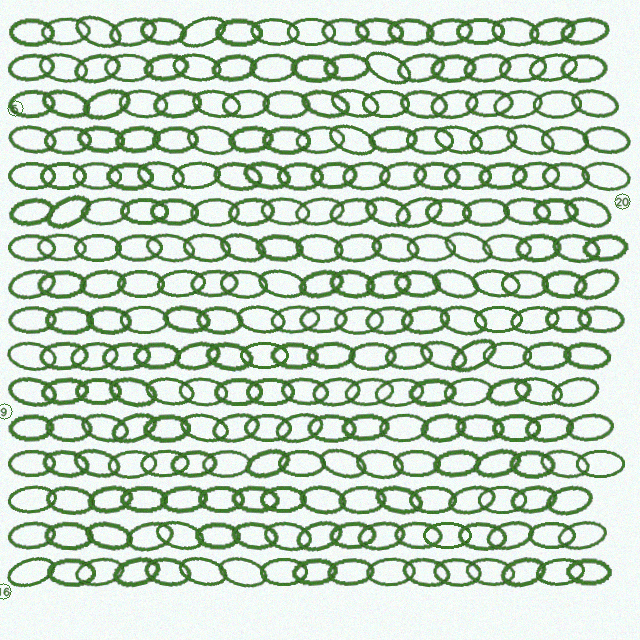chain: (445, 331, 502, 380), (359, 44, 416, 92), (40, 188, 96, 235), (70, 9, 127, 54), (174, 10, 231, 54), (324, 118, 380, 162), (107, 406, 162, 450), (440, 226, 496, 269), (3, 551, 60, 593), (569, 262, 624, 305), (78, 83, 134, 125), (560, 191, 616, 233), (502, 119, 559, 160), (391, 191, 446, 233), (315, 443, 370, 484), (292, 515, 347, 556), (215, 552, 271, 592), (361, 191, 415, 232), (416, 335, 470, 376), (241, 443, 295, 484), (38, 84, 93, 124), (428, 264, 483, 304), (327, 84, 383, 123), (216, 228, 270, 268), (105, 372, 160, 411), (548, 372, 603, 411), (272, 408, 327, 447), (152, 516, 207, 555), (483, 516, 538, 555), (175, 552, 230, 591), (70, 444, 124, 483), (470, 444, 524, 483), (109, 552, 163, 591), (184, 121, 239, 159), (431, 121, 486, 159), (255, 265, 310, 303), (177, 409, 232, 447), (497, 552, 550, 591), (298, 85, 352, 123), (436, 301, 490, 339), (445, 481, 499, 519), (123, 517, 177, 555), (526, 49, 581, 86), (71, 49, 124, 87), (5, 265, 58, 303), (295, 265, 348, 303), (171, 337, 224, 375), (78, 409, 131, 447), (372, 481, 425, 519), (543, 481, 596, 519), (82, 517, 135, 555), (106, 13, 160, 50), (36, 49, 90, 86), (5, 373, 59, 410), (511, 373, 565, 410), (555, 517, 609, 554), (189, 86, 244, 122), (483, 373, 535, 411), (526, 13, 579, 50), (394, 49, 447, 86), (568, 85, 621, 122), (134, 157, 187, 194), (240, 157, 293, 194), (209, 409, 262, 446), (491, 86, 545, 122), (579, 158, 633, 194), (143, 230, 197, 266), (5, 338, 59, 374), (353, 446, 407, 482), (327, 194, 380, 230), (538, 446, 591, 482), (261, 518, 314, 554), (73, 554, 126, 590), (400, 554, 453, 590), (469, 266, 523, 301), (143, 374, 197, 409), (428, 86, 480, 122), (6, 194, 58, 230), (550, 230, 602, 266), (203, 338, 255, 374), (489, 14, 542, 49), (558, 14, 611, 49), (170, 50, 223, 85), (461, 50, 514, 85), (467, 122, 520, 157), (293, 194, 346, 229), (369, 230, 422, 265), (234, 302, 287, 337), (355, 518, 408, 553), (508, 303, 562, 337), (6, 122, 58, 157), (77, 266, 129, 301), (160, 302, 212, 337), (310, 374, 362, 409), (297, 482, 349, 517), (508, 482, 560, 517), (142, 554, 194, 589), (211, 159, 264, 193), (68, 339, 121, 373), (373, 375, 426, 409), (141, 50, 192, 85), (327, 266, 378, 301), (418, 410, 469, 445), (85, 482, 136, 517), (398, 87, 450, 121), (580, 123, 632, 157), (293, 231, 345, 265), (343, 375, 395, 409), (40, 447, 92, 481), (44, 483, 96, 517), (229, 519, 281, 553), (464, 555, 516, 589), (534, 555, 586, 589), (117, 87, 170, 120), (170, 159, 223, 192), (155, 267, 208, 300), (424, 15, 475, 49), (209, 51, 260, 85), (363, 267, 414, 301), (353, 15, 405, 48), (497, 51, 549, 84), (151, 87, 203, 120), (220, 87, 272, 120), (510, 159, 562, 192), (79, 195, 131, 228), (259, 195, 311, 228), (501, 195, 553, 228), (181, 231, 233, 264), (269, 303, 321, 336), (399, 303, 451, 336), (177, 375, 229, 408), (442, 375, 494, 408), (523, 411, 575, 444), (564, 411, 616, 444), (6, 483, 58, 516), (6, 519, 58, 552), (106, 448, 159, 480), (138, 15, 189, 48), (6, 51, 57, 84), (75, 123, 126, 156), (377, 159, 428, 192), (226, 195, 277, 228), (332, 231, 383, 264), (39, 375, 90, 408), (279, 375, 330, 408), (431, 447, 482, 480), (158, 483, 209, 516), (249, 16, 301, 48), (294, 124, 346, 156), (218, 268, 270, 300), (100, 340, 152, 372), (383, 340, 435, 372), (456, 520, 508, 552), (113, 123, 163, 156), (226, 123, 276, 156), (539, 124, 590, 156), (477, 160, 528, 192), (481, 232, 532, 264), (392, 268, 443, 300), (364, 304, 415, 336), (561, 340, 612, 372), (454, 412, 505, 444), (139, 448, 191, 479), (320, 16, 370, 48), (386, 16, 436, 48), (289, 52, 339, 84), (254, 232, 304, 264), (84, 304, 134, 336), (195, 304, 245, 336), (407, 376, 457, 408), (169, 448, 219, 480), (290, 556, 340, 588), (326, 556, 376, 588), (432, 556, 482, 588), (40, 16, 91, 47), (103, 52, 154, 83), (367, 124, 418, 155), (341, 160, 392, 191), (36, 232, 87, 263), (189, 268, 240, 299), (298, 304, 349, 335), (38, 340, 89, 371), (305, 340, 356, 371), (521, 340, 572, 371), (378, 412, 429, 443), (337, 484, 388, 515), (43, 520, 94, 551), (393, 520, 444, 551), (365, 556, 416, 587), (429, 52, 478, 84), (581, 232, 630, 264), (540, 268, 589, 300), (189, 197, 241, 227), (248, 52, 298, 83), (322, 52, 372, 83), (7, 88, 57, 119), (464, 88, 514, 119), (309, 160, 359, 191), (412, 160, 462, 191), (576, 304, 626, 335), (44, 412, 94, 443), (340, 412, 390, 443), (230, 484, 280, 515), (328, 520, 378, 551), (261, 89, 312, 119), (36, 269, 87, 299), (333, 305, 384, 335), (306, 413, 357, 443), (201, 449, 252, 479), (514, 232, 563, 263), (559, 53, 609, 83), (532, 89, 582, 119), (43, 125, 93, 155), (261, 125, 311, 155), (72, 161, 122, 191), (541, 161, 591, 191), (149, 197, 199, 227), (461, 197, 511, 227), (7, 233, 57, 263), (406, 233, 456, 263), (7, 305, 57, 335), (44, 305, 94, 335), (269, 341, 319, 371), (347, 341, 397, 371), (46, 557, 96, 587), (119, 305, 170, 334), (473, 305, 524, 334), (477, 485, 528, 514), (422, 521, 473, 550), (214, 17, 263, 47), (151, 125, 200, 155), (405, 125, 454, 155), (105, 161, 154, 191), (276, 161, 325, 191), (424, 197, 473, 227), (114, 233, 163, 263), (500, 269, 549, 299), (132, 341, 181, 371), (7, 413, 56, 443), (142, 413, 191, 443), (508, 449, 557, 479), (286, 17, 336, 46), (455, 17, 505, 46), (119, 197, 169, 226), (73, 233, 123, 262), (239, 341, 289, 370), (482, 341, 532, 370), (213, 377, 263, 406), (245, 377, 295, 406), (491, 413, 541, 442), (7, 449, 57, 478), (392, 449, 442, 478), (575, 449, 625, 478), (527, 521, 577, 550), (259, 557, 309, 586), (8, 17, 56, 47), (194, 521, 242, 551), (565, 557, 613, 587), (361, 89, 410, 118), (7, 161, 56, 190), (39, 161, 88, 190), (443, 161, 492, 190), (116, 269, 165, 298), (544, 305, 593, 334), (74, 377, 123, 406), (243, 413, 292, 442), (277, 449, 326, 478), (119, 485, 168, 514), (197, 485, 246, 514), (259, 485, 308, 514), (408, 485, 457, 514), (532, 197, 580, 226)
noise: (5, 98, 25, 118), (612, 191, 632, 211), (0, 401, 14, 421), (0, 581, 13, 601)
